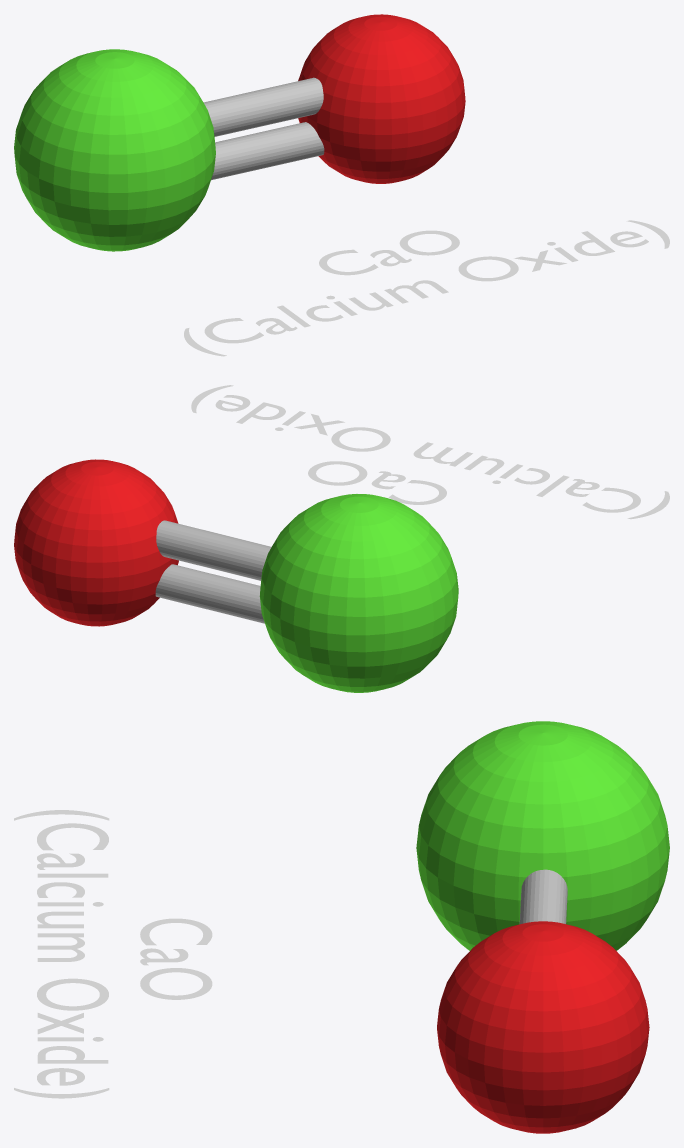
File: Calcium oxide.fbx
3 renders of one model, top to bottom at view 1: azimuth 30°, elevation 25°; view 2: azimuth 150°, elevation 25°; view 3: azimuth 270°, elevation 25°, orthographic. The views are drawn at different scales.
Parts seen in each view (by area): view 1: Sphere, Sphere.002, Text, Cylinder, Cylinder.001; view 2: Sphere, Sphere.002, Text, Cylinder, Cylinder.001; view 3: Sphere, Sphere.002, Text, Cylinder.
Part boxes in pixels (left/top/right/bottom): Sphere: left=14, top=49, right=215, bottom=251; Sphere.002: left=298, top=14, right=465, bottom=183; Text: left=184, top=220, right=669, bottom=356; Cylinder: left=203, top=77, right=323, bottom=136; Cylinder.001: left=211, top=122, right=324, bottom=180; Sphere: left=259, top=494, right=458, bottom=692; Sphere.002: left=14, top=459, right=178, bottom=626; Text: left=191, top=385, right=669, bottom=519; Cylinder: left=156, top=520, right=271, bottom=580; Cylinder.001: left=155, top=564, right=264, bottom=623; Sphere: left=416, top=721, right=669, bottom=950; Sphere.002: left=437, top=921, right=649, bottom=1133; Text: left=14, top=810, right=212, bottom=1098; Cylinder: left=519, top=869, right=567, bottom=924.
Size of the model in its own units: 661 by 245 by 635.
